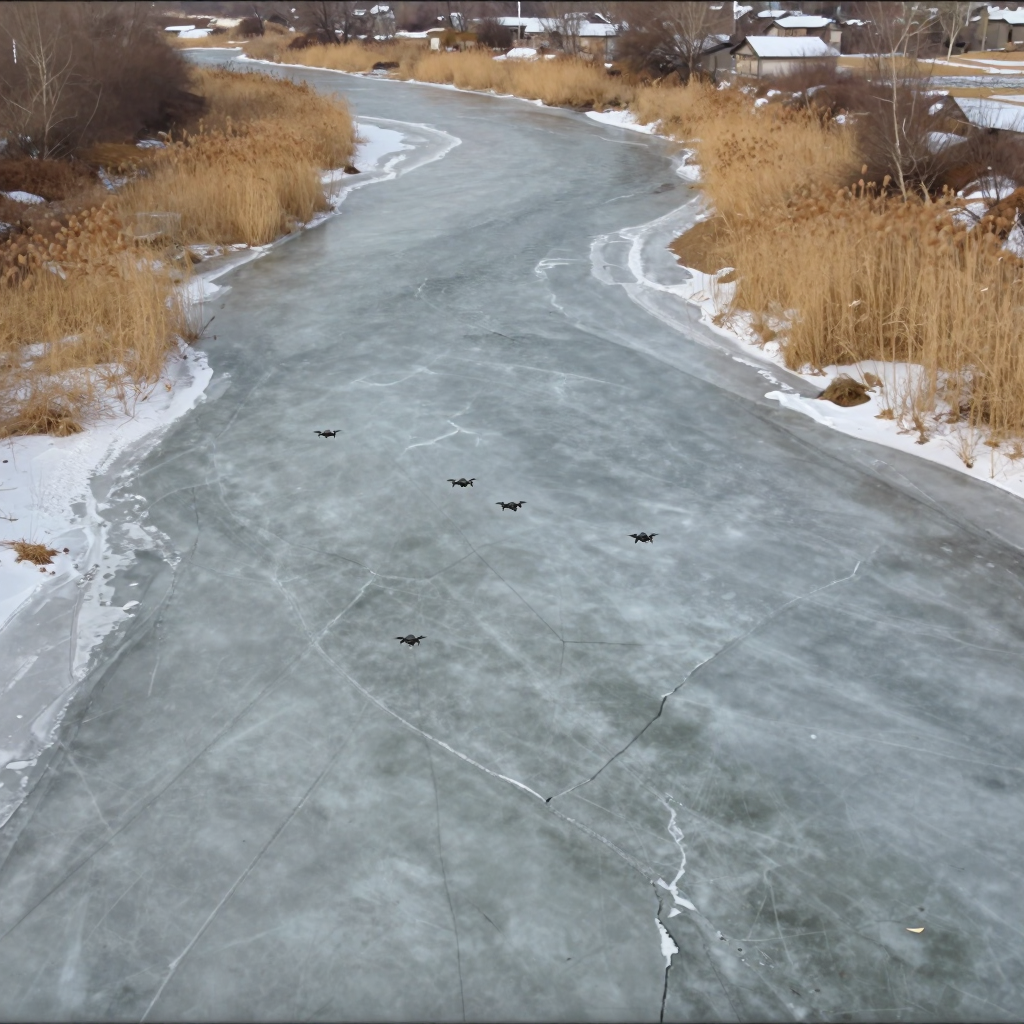drone: (395, 635, 427, 647), (628, 532, 659, 544), (495, 501, 527, 512), (447, 478, 476, 488), (313, 429, 342, 439)
